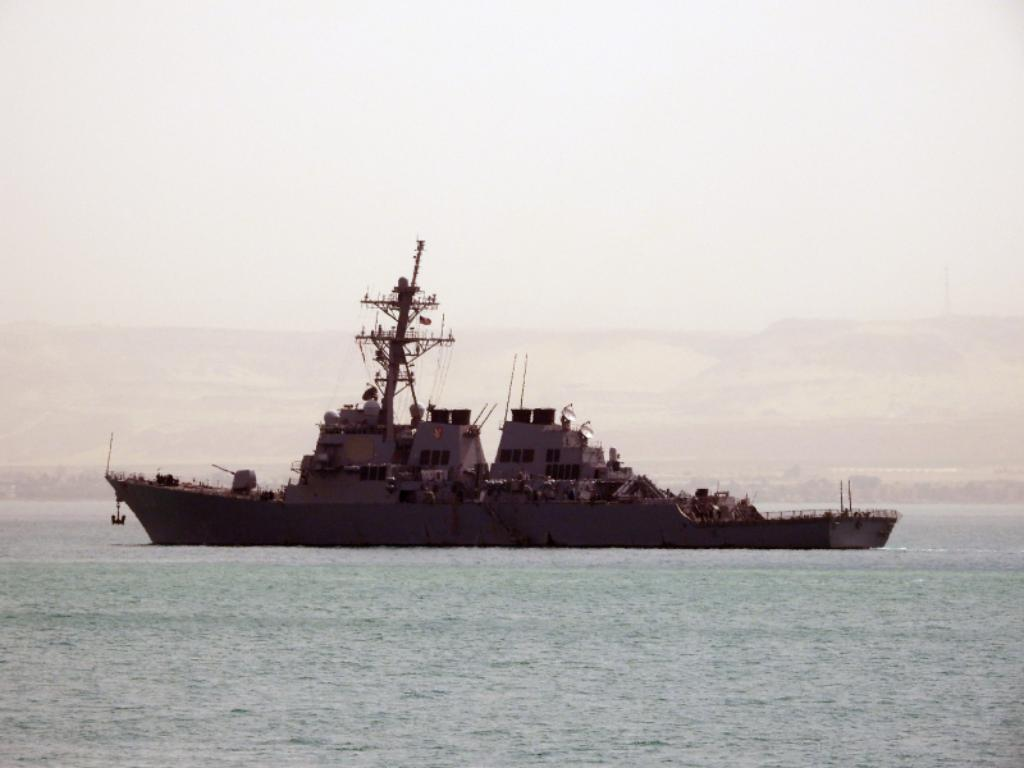Warship: (102, 244, 900, 554)
